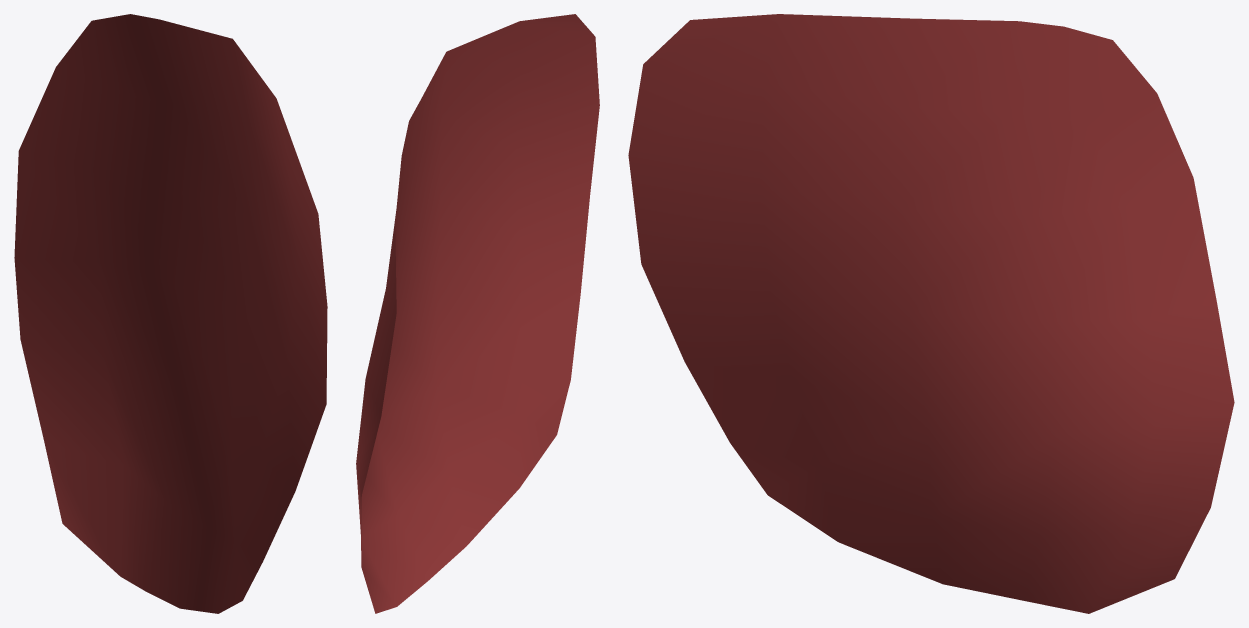
File: subcutaneous-bursa-of-lateral-malleolus-l.glb
The picture shows the model from 3 angles, left to right: view 1: azimuth 30°, elevation 25°; view 2: azimuth 150°, elevation 25°; view 3: azimuth 270°, elevation 25°; orthographic projection. The views are drawn at different scales.
Parts seen in each view (by area): view 1: Subcutaneous bursa of lateral malleolus.l; view 2: Subcutaneous bursa of lateral malleolus.l; view 3: Subcutaneous bursa of lateral malleolus.l.
Boxes of the visible parts, x1,y1,x2,y2 form: Subcutaneous bursa of lateral malleolus.l: (14, 14, 327, 613); Subcutaneous bursa of lateral malleolus.l: (356, 14, 599, 613); Subcutaneous bursa of lateral malleolus.l: (628, 14, 1234, 613).
Size of the model in its own units: 0.0034 by 0.0207 by 0.0187.
